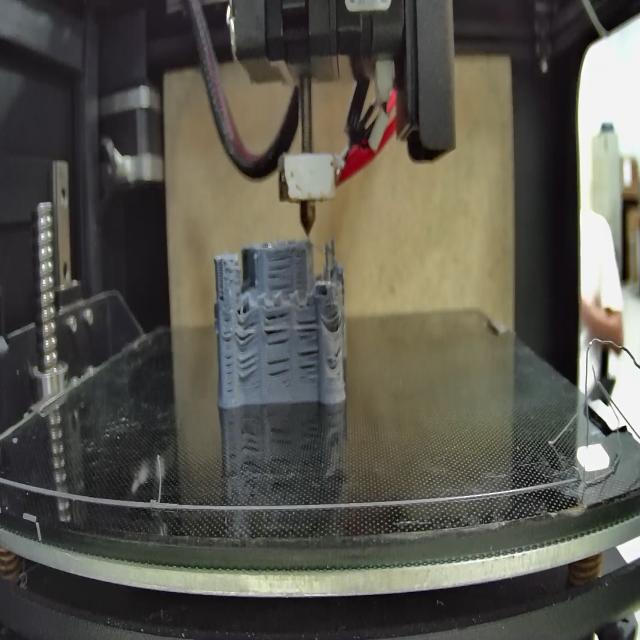cracks: (267, 250, 296, 292), (222, 316, 234, 396), (264, 312, 292, 346), (296, 349, 321, 380), (266, 354, 291, 382), (237, 319, 259, 345), (297, 317, 319, 341), (238, 355, 260, 378), (330, 311, 344, 331), (336, 342, 342, 364), (218, 288, 226, 304)
